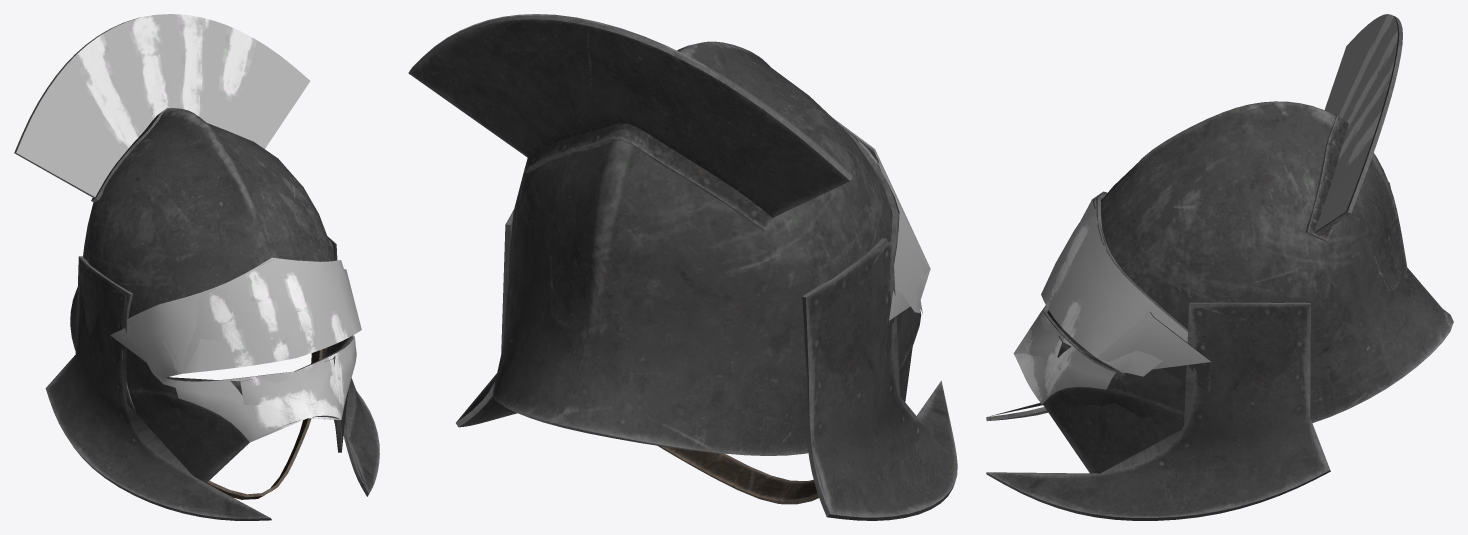
Rendered from sk_uruk_hai_helmet_sword_heavy_a3.fbx.
3 renders of one model, left to right at view 1: azimuth 30°, elevation 25°; view 2: azimuth 150°, elevation 25°; view 3: azimuth 270°, elevation 25°, orthographic. The views are drawn at different scales.
Parts seen in each view (by area): view 1: sk_uruk_hai_helmet_sword_heavy_a3.0, sk_uruk_hai_helmet_sword_heavy_a3.2, sk_uruk_hai_helmet_sword_heavy_a3.lod.1, sk_uruk_hai_helmet_sword_heavy_a3.lod.0, sk_uruk_hai_helmet_sword_heavy_a3.1; view 2: sk_uruk_hai_helmet_sword_heavy_a3.2, sk_uruk_hai_helmet_sword_heavy_a3.lod.1, sk_uruk_hai_helmet_sword_heavy_a3.1, sk_uruk_hai_helmet_sword_heavy_a3.0, sk_uruk_hai_helmet_sword_heavy_a3.lod.0; view 3: sk_uruk_hai_helmet_sword_heavy_a3.2, sk_uruk_hai_helmet_sword_heavy_a3.lod.1, sk_uruk_hai_helmet_sword_heavy_a3.0, sk_uruk_hai_helmet_sword_heavy_a3.lod.0.
Part boxes in pixels (x1=…): sk_uruk_hai_helmet_sword_heavy_a3.0: x1=16, y1=14, x2=361, y2=442; sk_uruk_hai_helmet_sword_heavy_a3.2: x1=14, y1=17, x2=379, y2=520; sk_uruk_hai_helmet_sword_heavy_a3.lod.1: x1=45, y1=236, x2=379, y2=517; sk_uruk_hai_helmet_sword_heavy_a3.lod.0: x1=110, y1=119, x2=360, y2=441; sk_uruk_hai_helmet_sword_heavy_a3.1: x1=207, y1=349, x2=322, y2=499; sk_uruk_hai_helmet_sword_heavy_a3.2: x1=408, y1=15, x2=957, y2=520; sk_uruk_hai_helmet_sword_heavy_a3.lod.1: x1=456, y1=124, x2=957, y2=516; sk_uruk_hai_helmet_sword_heavy_a3.1: x1=658, y1=446, x2=818, y2=504; sk_uruk_hai_helmet_sword_heavy_a3.0: x1=412, y1=14, x2=930, y2=314; sk_uruk_hai_helmet_sword_heavy_a3.lod.0: x1=833, y1=118, x2=930, y2=320; sk_uruk_hai_helmet_sword_heavy_a3.2: x1=986, y1=15, x2=1453, y2=520; sk_uruk_hai_helmet_sword_heavy_a3.lod.1: x1=987, y1=181, x2=1453, y2=514; sk_uruk_hai_helmet_sword_heavy_a3.0: x1=1014, y1=14, x2=1397, y2=404; sk_uruk_hai_helmet_sword_heavy_a3.lod.0: x1=1013, y1=159, x2=1340, y2=373.
Bounding box in the file's own units: 0.2846 × 0.3406 × 0.3703.
3 materials, 3 textured.
